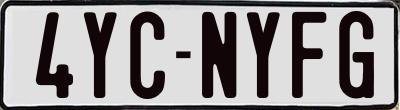4: (35, 11, 72, 102)
C: (127, 9, 165, 103)
F: (289, 10, 326, 102)
G: (338, 8, 378, 102)
N: (202, 11, 237, 103)
Y: (246, 10, 284, 98), (82, 12, 116, 102)
